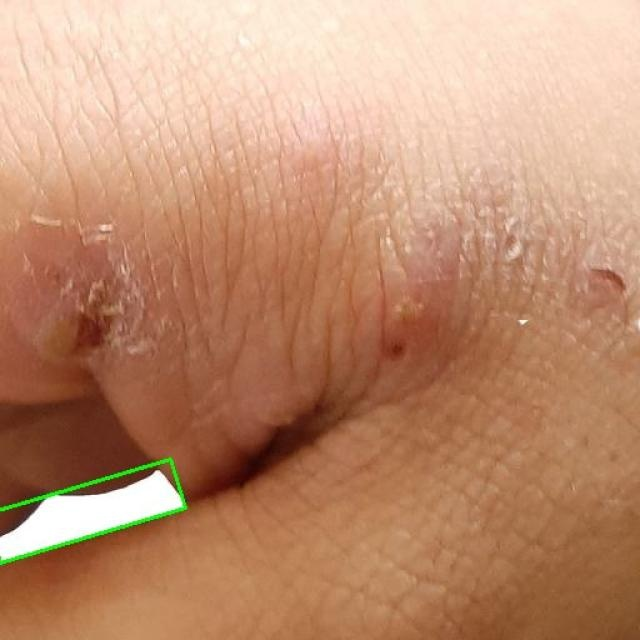Scabies: (0, 459, 187, 567)
